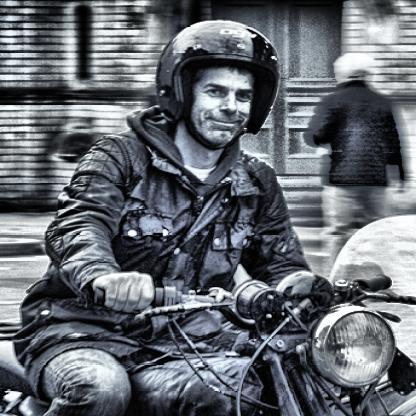not_wear: (330, 51, 373, 90)
wear: (160, 19, 261, 153)
